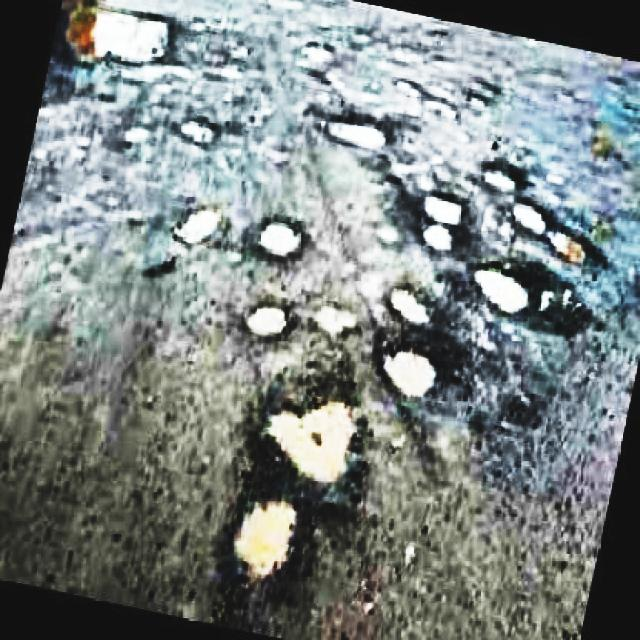pothole: (258, 378, 369, 512), (214, 488, 312, 638), (58, 0, 181, 72), (508, 197, 612, 275), (371, 329, 443, 406), (474, 257, 548, 320), (416, 184, 466, 256), (396, 76, 458, 126), (255, 210, 308, 262), (328, 112, 386, 156), (386, 280, 437, 328), (174, 203, 220, 248), (475, 155, 528, 194), (249, 304, 291, 344), (314, 300, 354, 338), (178, 114, 218, 148), (302, 40, 340, 69)
